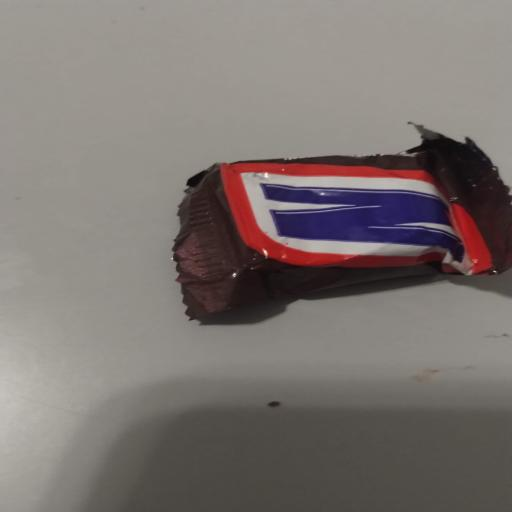chocolate: (174, 127, 511, 318)
